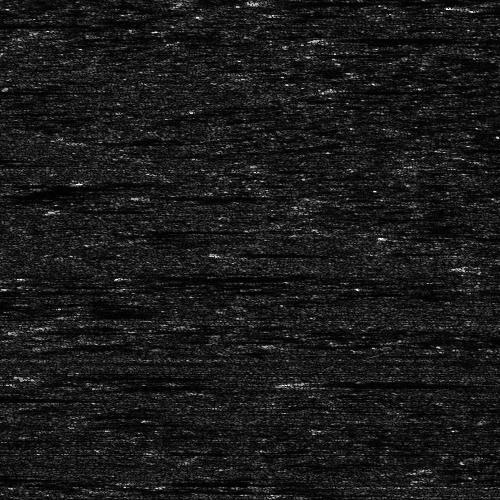object: (122, 187, 175, 202), (307, 33, 370, 42), (0, 323, 60, 332), (231, 0, 304, 6), (268, 377, 321, 384), (214, 248, 267, 253), (24, 374, 77, 379), (106, 177, 147, 182), (317, 86, 348, 91), (68, 205, 99, 210), (496, 354, 500, 363)
shadow: (149, 187, 271, 202), (268, 0, 500, 6), (338, 33, 473, 42), (295, 377, 467, 384), (0, 86, 89, 95), (51, 374, 206, 379), (24, 323, 101, 332), (333, 86, 466, 91), (241, 248, 325, 253), (127, 177, 208, 182), (84, 205, 163, 210), (0, 21, 86, 24), (0, 395, 74, 398), (0, 157, 27, 160)
